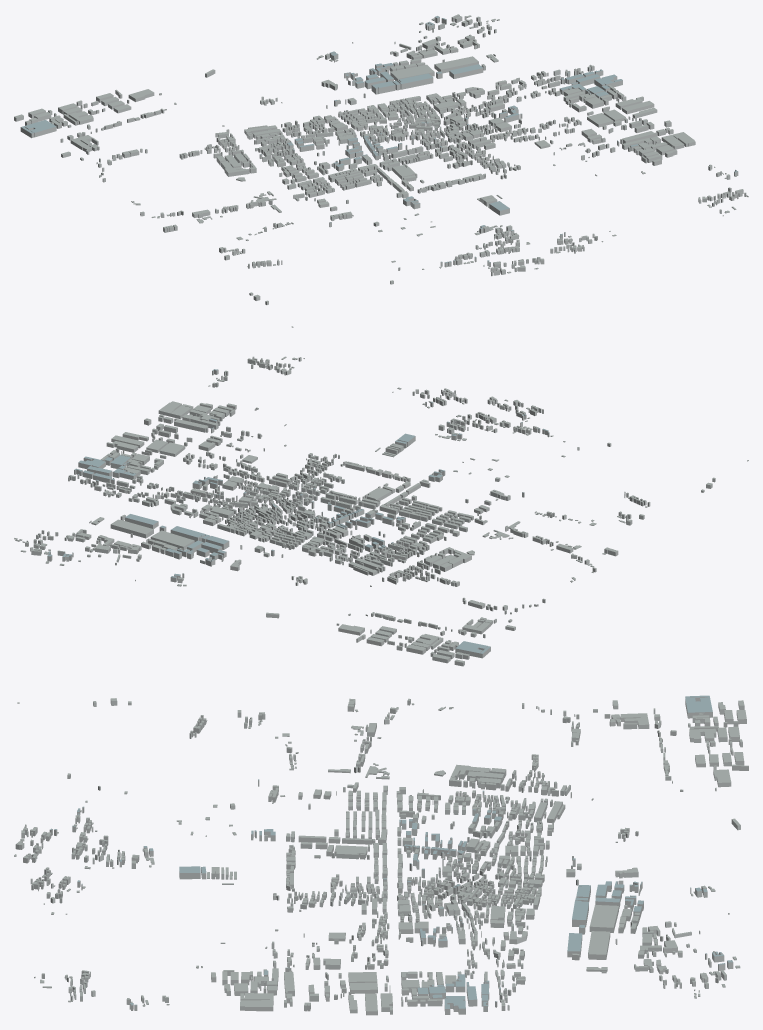
Rendered from far.glb.
3 renders of one model, top to bottom at view 1: azimuth 30°, elevation 25°; view 2: azimuth 150°, elevation 25°; view 3: azimuth 270°, elevation 25°, orthographic. The views are drawn at different scales.
Size of the model in its own units: 2139 by 27.32 by 2115.
